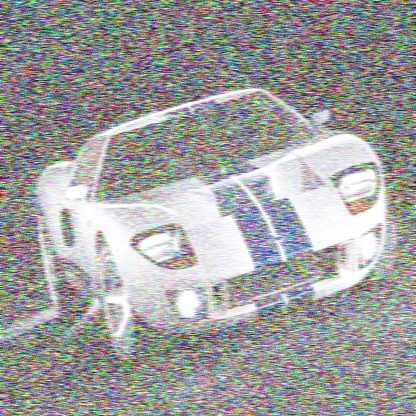Vehicle: (36, 84, 399, 374)
